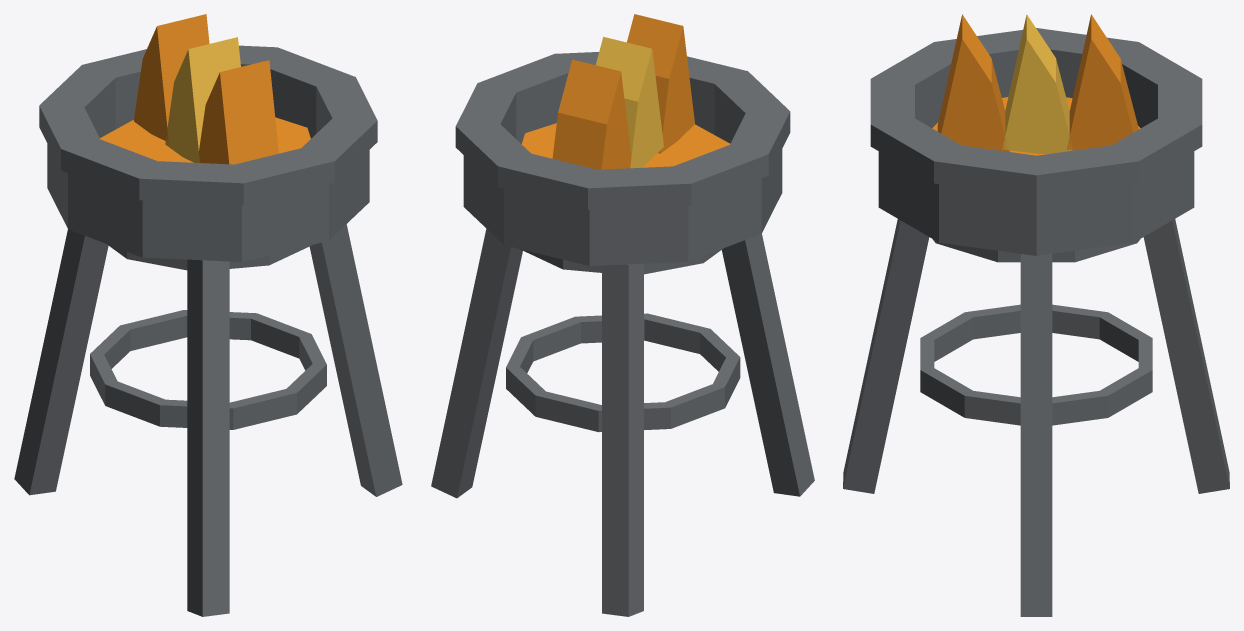
Rendered from Brazier__Standing.fbx.
3 renders of one model, left to right at view 1: azimuth 30°, elevation 25°; view 2: azimuth 150°, elevation 25°; view 3: azimuth 270°, elevation 25°, orthographic. The views are drawn at different scales.
Visible parts, largest first — view 1: Brazier__Standing; view 2: Brazier__Standing; view 3: Brazier__Standing.
Part boxes in pixels (x1=…): Brazier__Standing: x1=14, y1=14, x2=402, y2=616; Brazier__Standing: x1=431, y1=14, x2=814, y2=616; Brazier__Standing: x1=843, y1=14, x2=1229, y2=616.
Bounding box in the file's own units: 80.88 × 114 × 79.2.
1 material, 1 textured.
